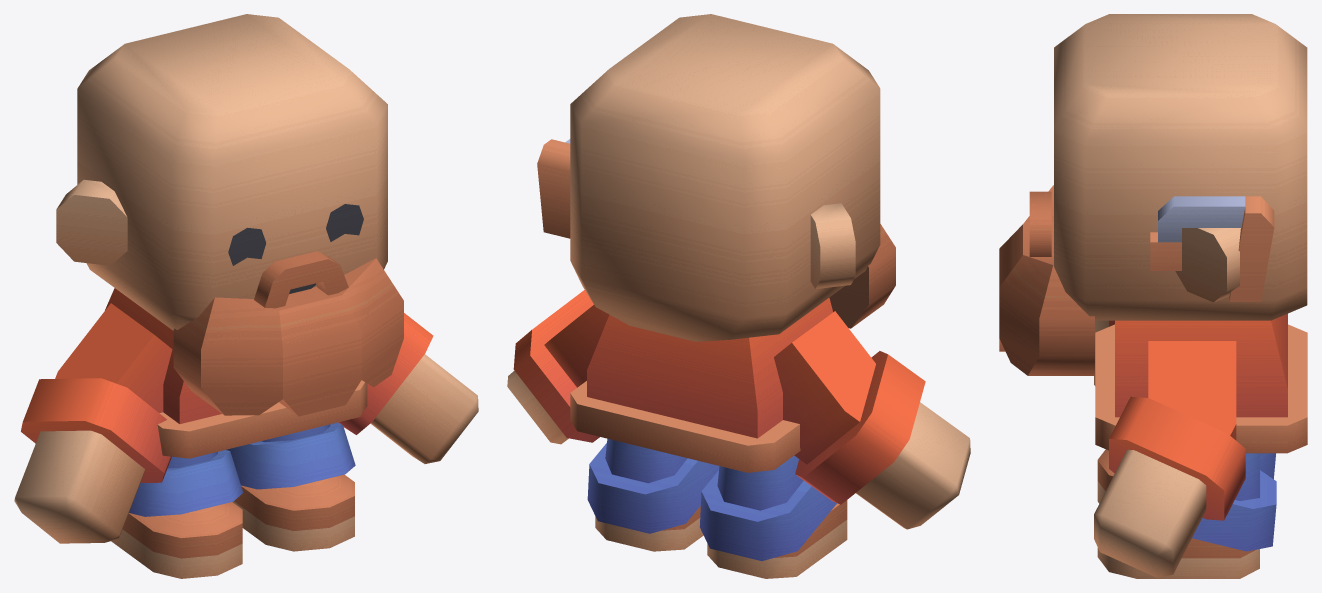
File: character-male-b.glb
3 views of the same model, side by side, from view 1: azimuth 30°, elevation 25°; view 2: azimuth 150°, elevation 25°; view 3: azimuth 270°, elevation 25° (orthographic).
Visible parts, largest first — view 1: body-mesh; view 2: body-mesh; view 3: body-mesh.
Boxes of the visible parts, x1,y1,x2,y2 form: body-mesh: (14,14,478,578); body-mesh: (507,14,970,578); body-mesh: (999,14,1307,578).
Bounding box in the file's own units: 1.59 × 1.59 × 0.9347.
Materials: 1 (1 with a texture image).
